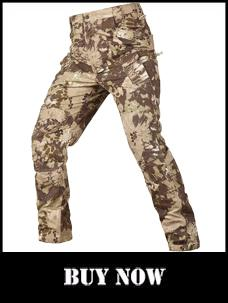pants: (19, 3, 204, 249)
